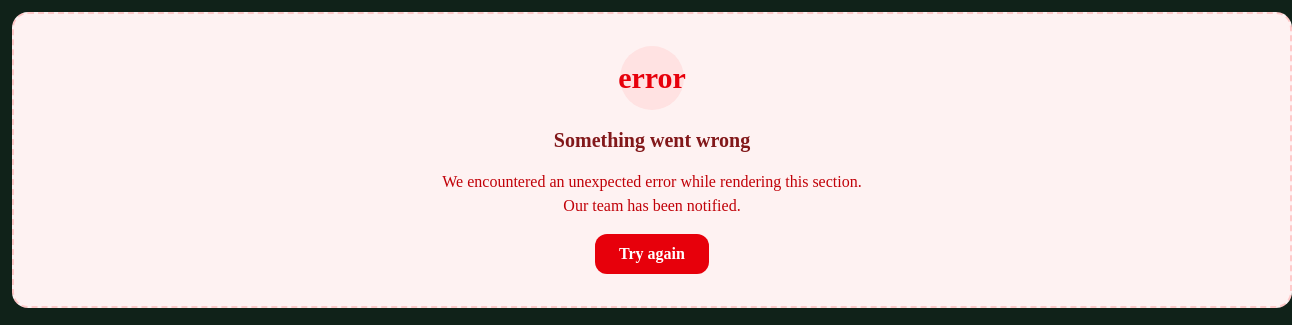
Test: DashboardErrorBoundary › resets error state when Try again is clicked
Expected: the heading "Something went wrong" is shown, [554,129,750,151]
Click the button "Try again" at point(652, 254), box [595,234,709,274]
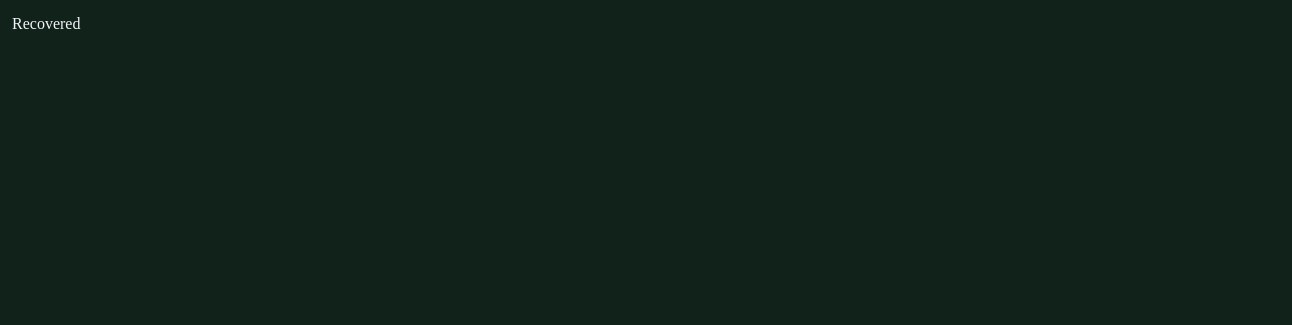
Expected: the text "Recovered" is shown, [12,15,80,32]
